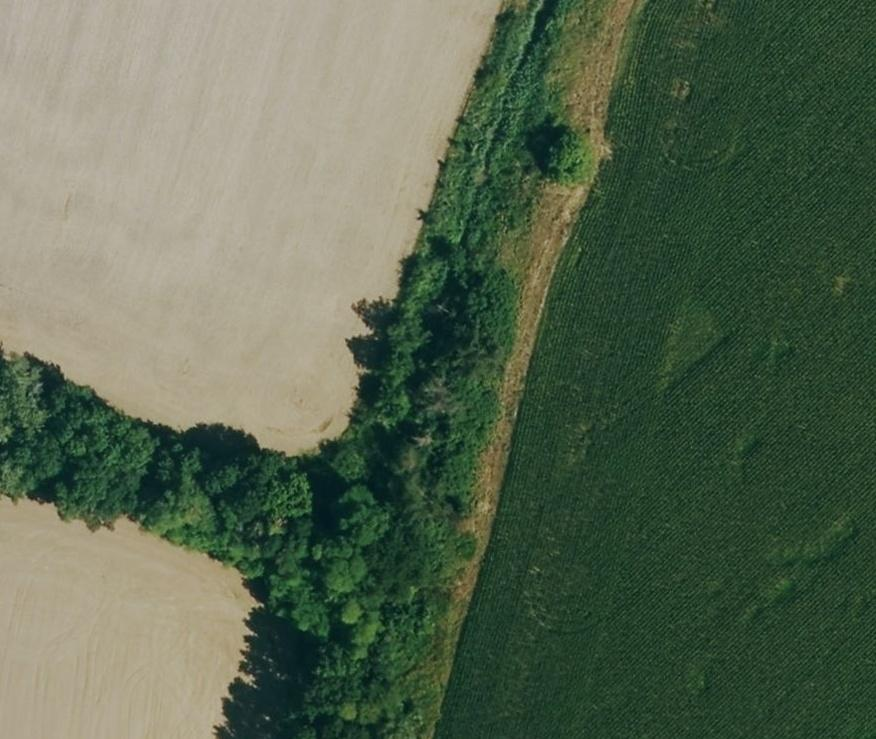field: (438, 2, 876, 737), (0, 2, 500, 453), (0, 500, 252, 735)
forest: (0, 0, 601, 737)
